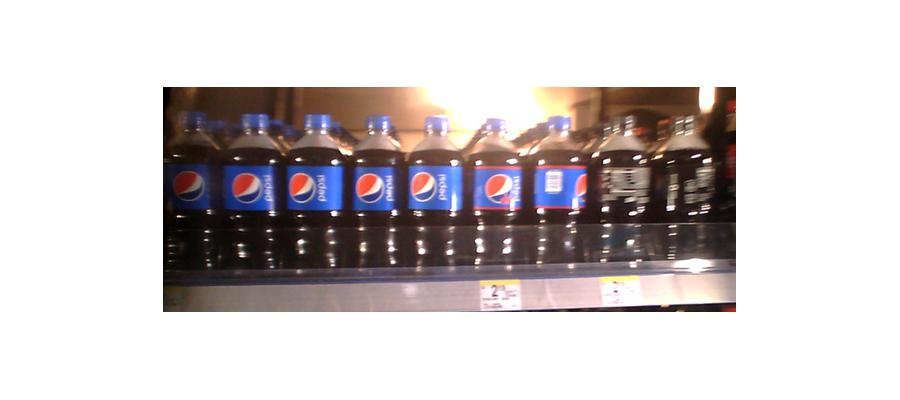bottle: (590, 113, 659, 264), (218, 111, 284, 268), (282, 113, 346, 261), (464, 109, 523, 268), (402, 114, 463, 266), (526, 112, 585, 265), (345, 113, 403, 261), (660, 104, 713, 264)
